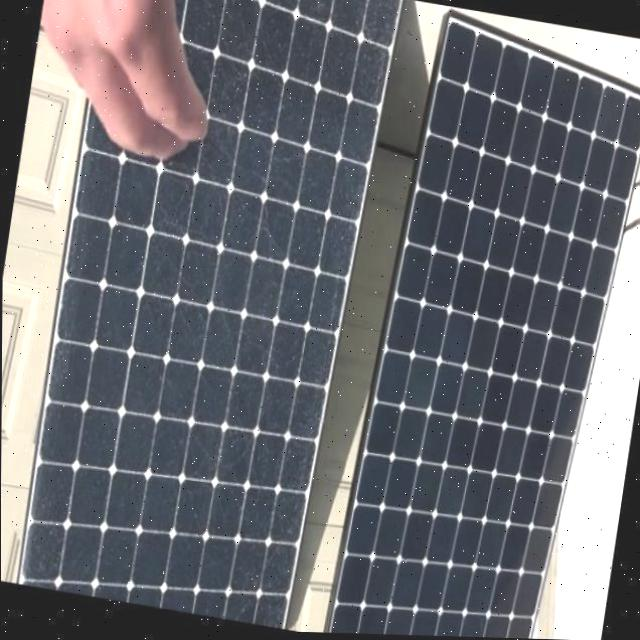Normal Solar Panel: (327, 7, 640, 640)
